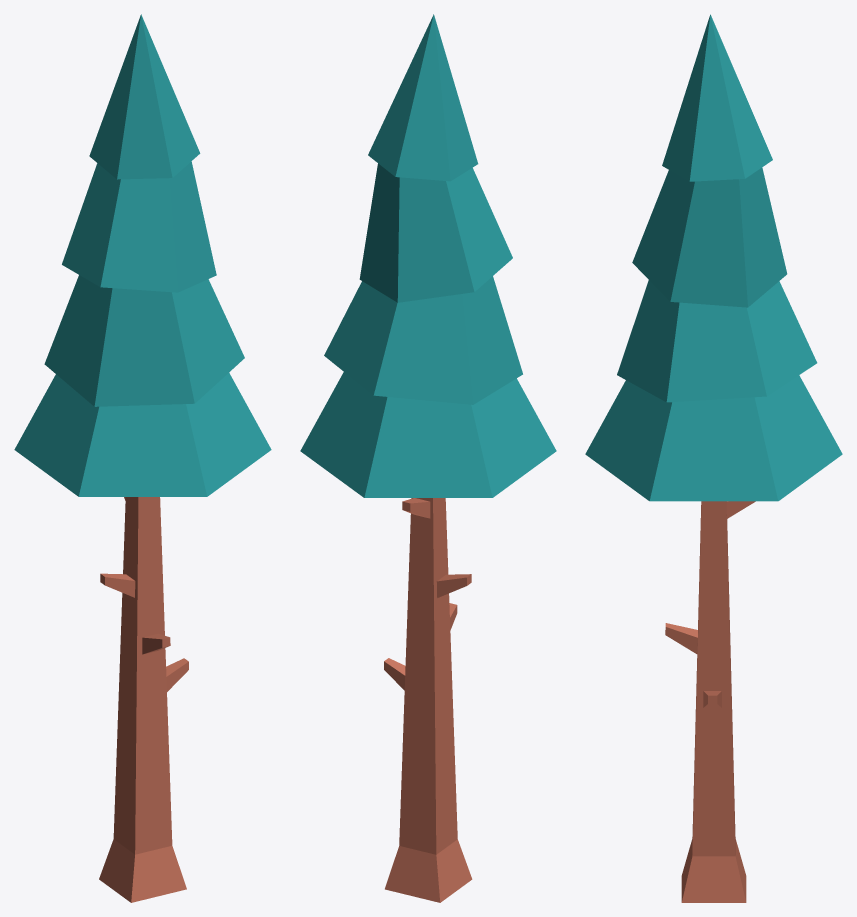
The model's file is tree_pineTallD_detailed.dae.
The picture shows the model from 3 angles, left to right: view 1: azimuth 30°, elevation 25°; view 2: azimuth 150°, elevation 25°; view 3: azimuth 270°, elevation 25°; orthographic projection.
Parts seen in each view (by area): view 1: tree_pineTallD_detailed; view 2: tree_pineTallD_detailed; view 3: tree_pineTallD_detailed.
Boxes of the visible parts, box(x1,y1,x2,y2) form: tree_pineTallD_detailed: box(14, 14, 271, 902); tree_pineTallD_detailed: box(300, 14, 556, 902); tree_pineTallD_detailed: box(585, 14, 842, 902).
Size of the model in its own units: 0.4804 by 2.08 by 0.5547.
